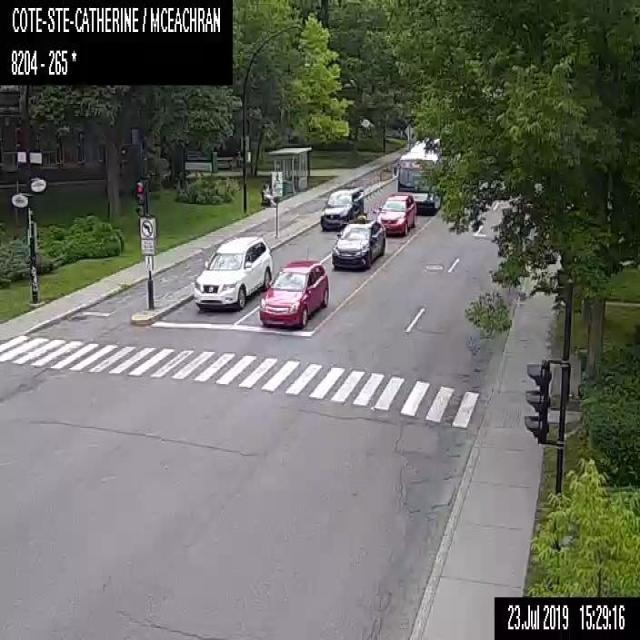bus: (392, 136, 460, 213)
pedestrian: (262, 182, 276, 205)
vehicle: (192, 235, 272, 308), (259, 259, 328, 327), (331, 213, 385, 270), (319, 184, 363, 229), (375, 193, 416, 235)
